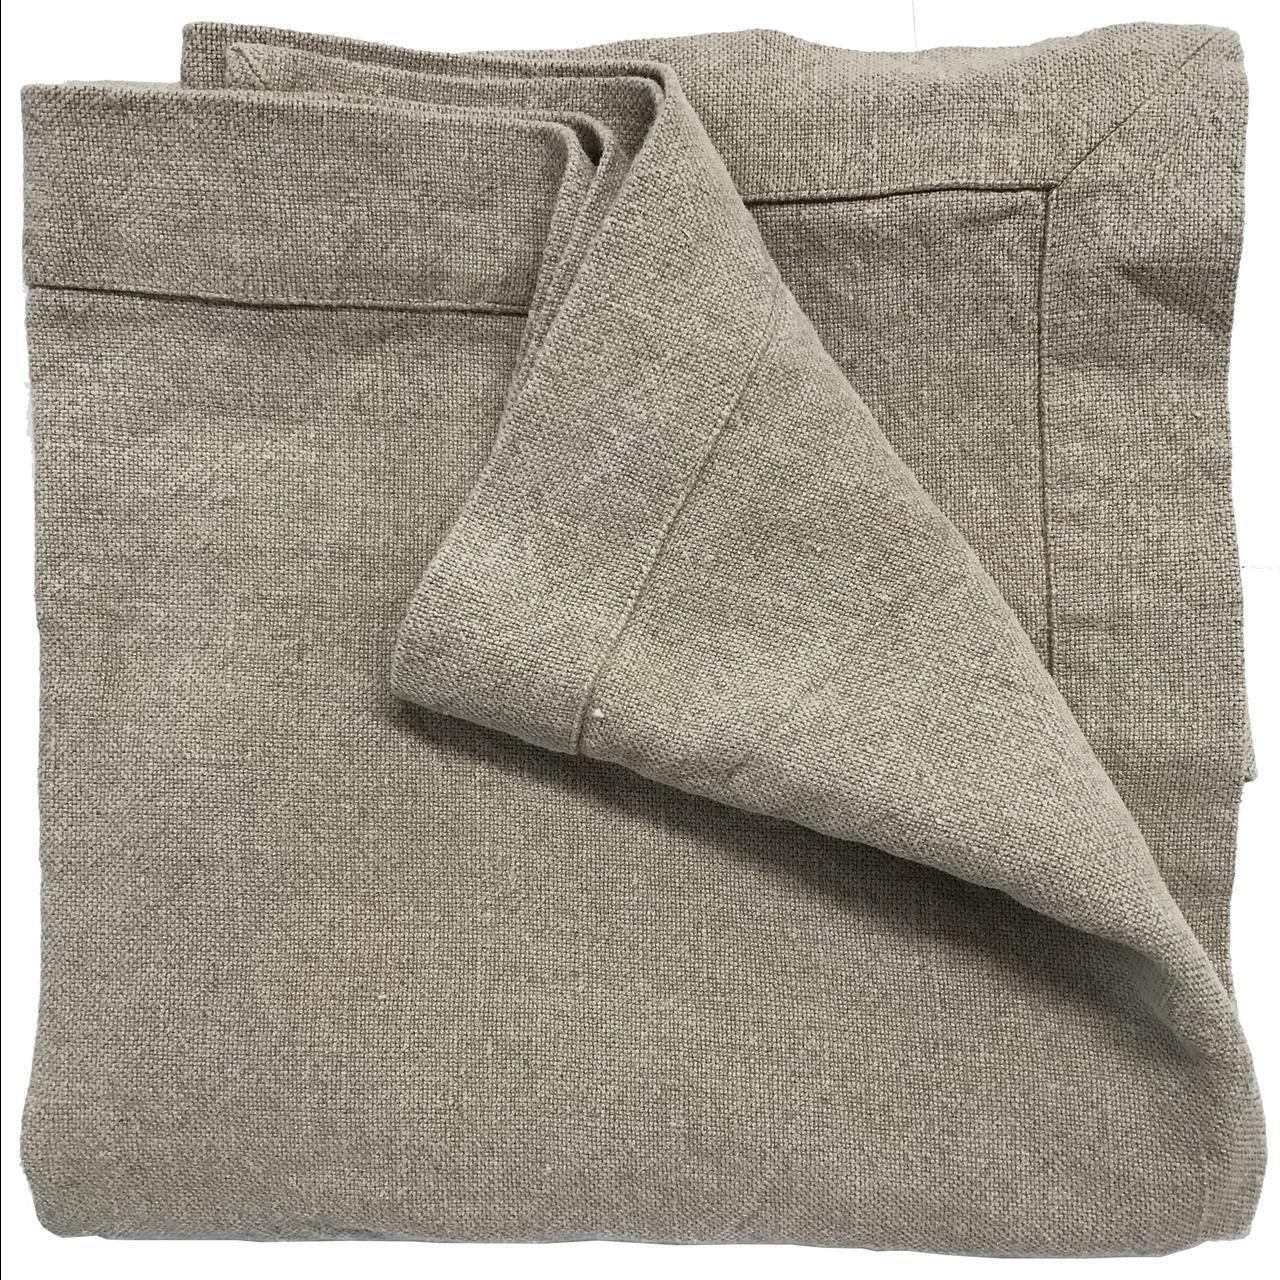towel: (23, 18, 1280, 1280)
